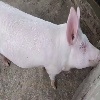heo: (56, 3, 100, 71)
